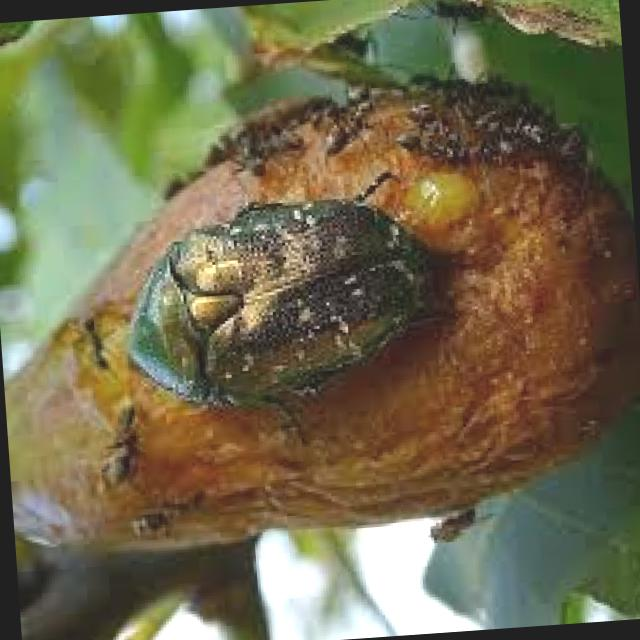organic: (3, 48, 640, 558)
